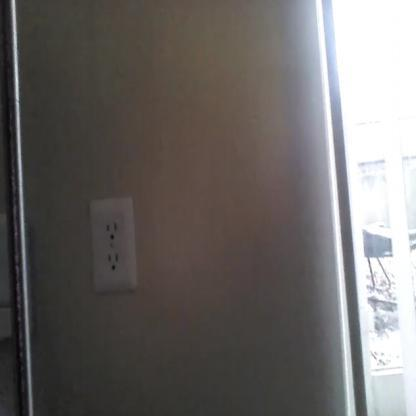OUTLET: (91, 199, 137, 292)
